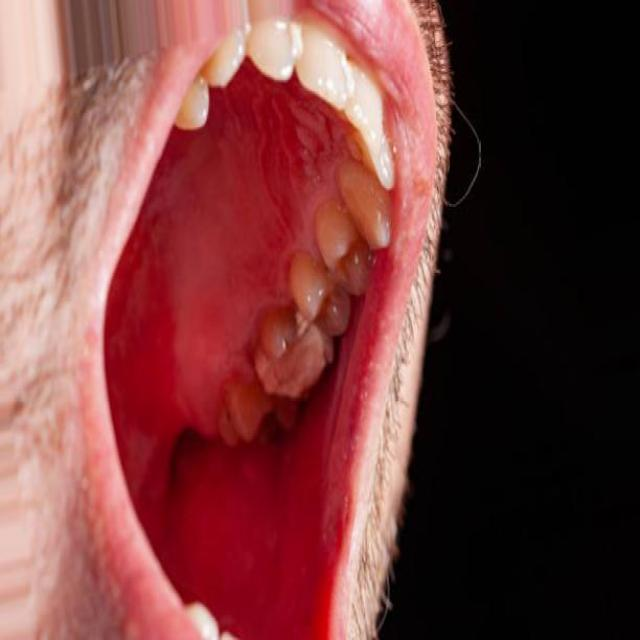caries: (258, 332, 326, 403)
